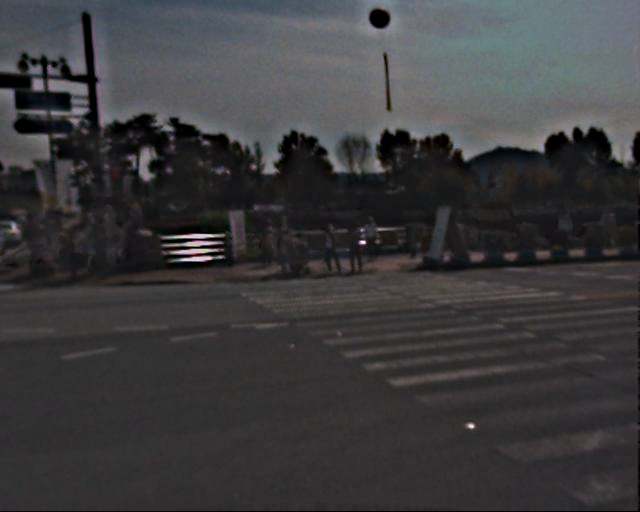person: (18, 210, 63, 280), (89, 214, 121, 270), (68, 223, 104, 271), (272, 211, 297, 272), (344, 219, 367, 274), (259, 216, 281, 270), (322, 225, 343, 275), (363, 213, 383, 262)
